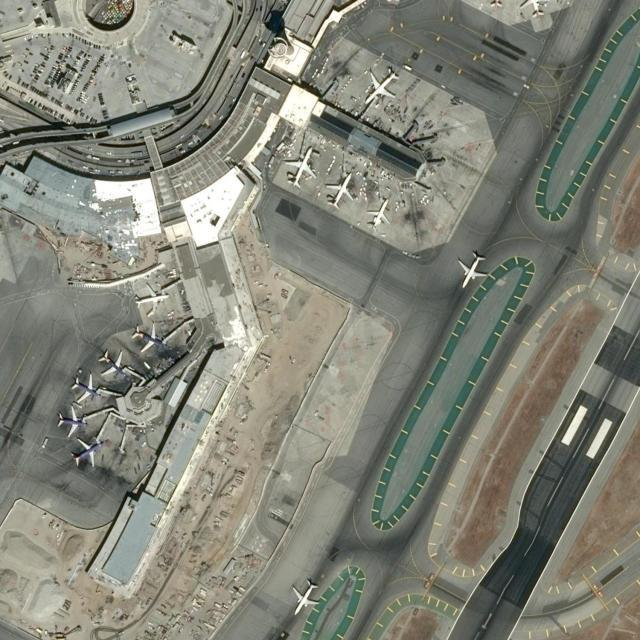Aircraft: (284, 144, 317, 188), (363, 67, 399, 103), (324, 170, 354, 211), (456, 251, 488, 287), (134, 283, 168, 315), (130, 324, 167, 353), (292, 577, 319, 615), (55, 405, 89, 435), (68, 438, 102, 468), (70, 372, 103, 402), (98, 348, 126, 378), (366, 197, 392, 229), (519, 2, 551, 18)
